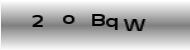2: (30, 14, 44, 28)
B: (90, 13, 105, 26)
W: (123, 17, 146, 31)
o: (61, 14, 75, 24)
q: (105, 17, 118, 30)
